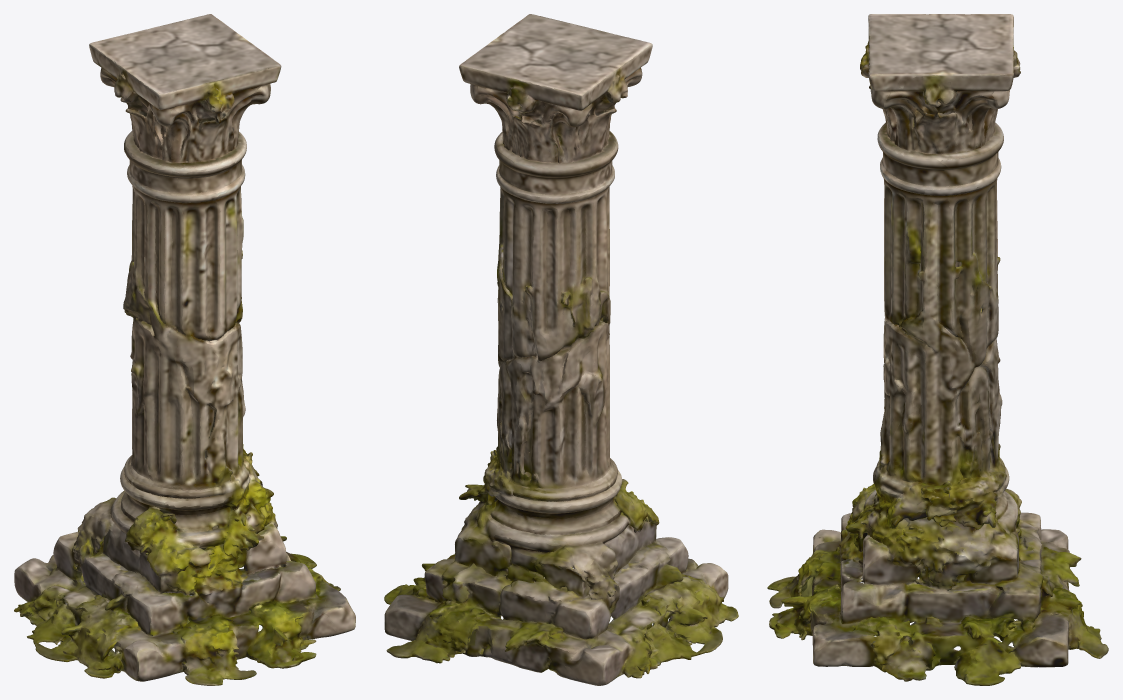
File: AncientColumn_01.fbx
3 views of the same model, side by side, from view 1: azimuth 30°, elevation 25°; view 2: azimuth 150°, elevation 25°; view 3: azimuth 270°, elevation 25° (orthographic). The views are drawn at different scales.
Visible parts, largest first — view 1: geometry_0; view 2: geometry_0; view 3: geometry_0.
Boxes of the visible parts, x1,y1,x2,y2 form: geometry_0: (14,14,355,685); geometry_0: (384,14,738,685); geometry_0: (767,14,1108,685).
Size of the model in its own units: 195 by 350 by 189.
